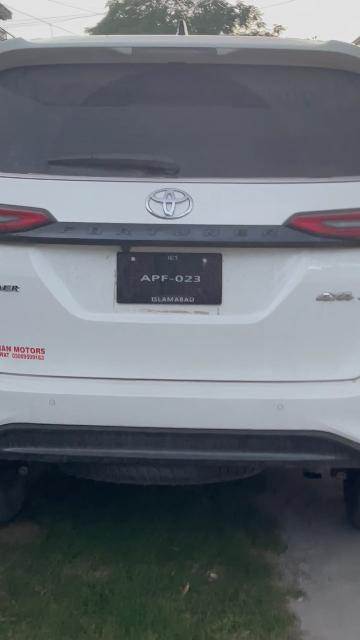plate: (115, 250, 222, 304)
